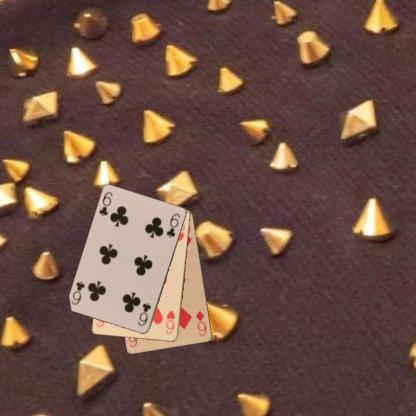6c: (96, 189, 114, 218), (135, 300, 153, 328)
6d: (194, 308, 208, 338)
6h: (163, 308, 176, 335)
